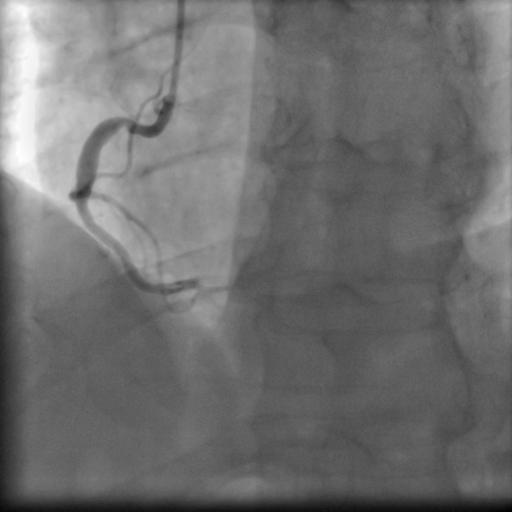Stenosis: (72, 196, 94, 221)
